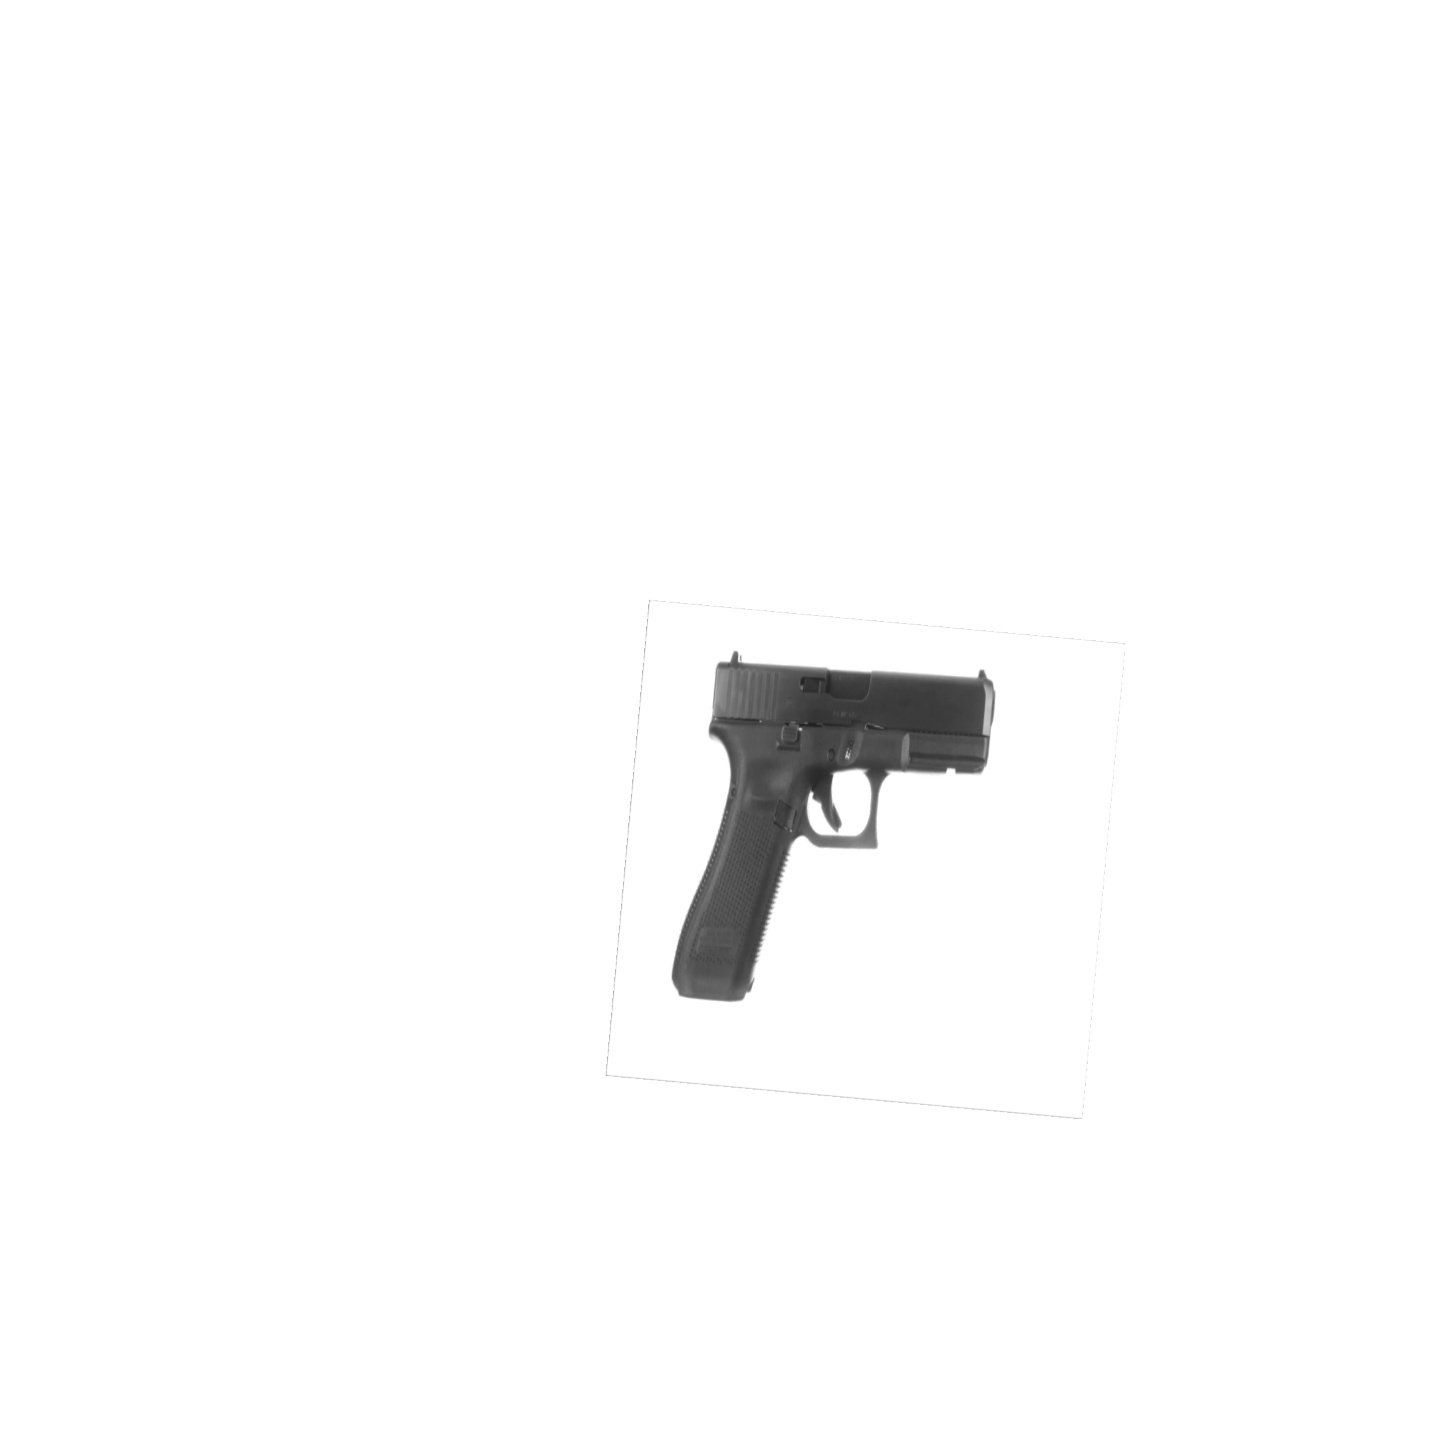gun: (660, 643, 1003, 1021)
